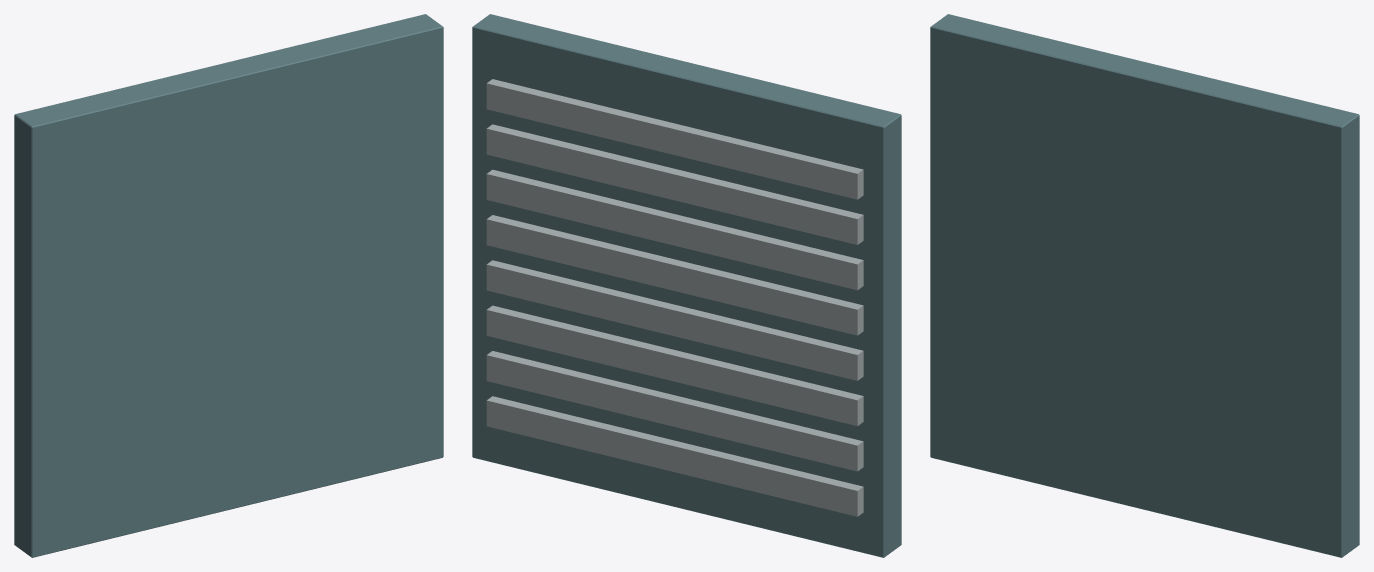
File: vent_panel_2m.glb
The picture shows the model from 3 angles, left to right: view 1: azimuth 30°, elevation 25°; view 2: azimuth 150°, elevation 25°; view 3: azimuth 330°, elevation 25°; orthographic projection.
Parts seen in each view (by area): view 1: vent_panel_2m; view 2: vent_panel_2m; view 3: vent_panel_2m.
Part boxes in pixels (x1,y1,x2,y2): vent_panel_2m: [14, 14, 443, 557]; vent_panel_2m: [472, 14, 901, 557]; vent_panel_2m: [930, 14, 1359, 557].
Size of the model in its own units: 2 by 2 by 0.2.
